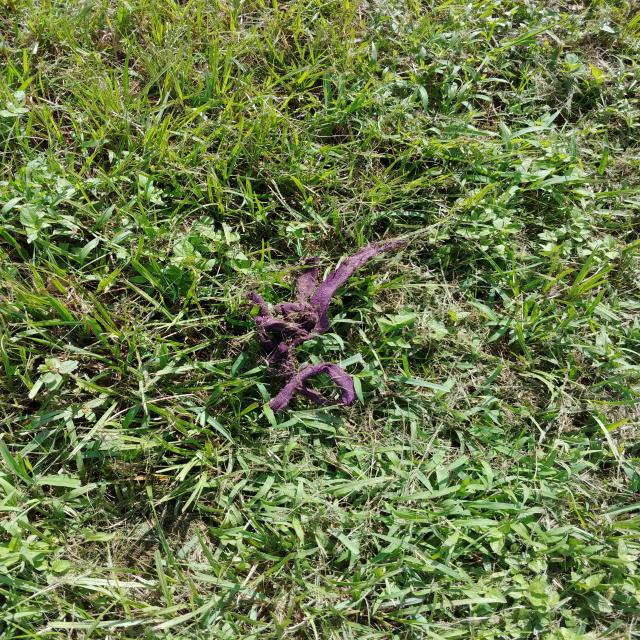litter: (248, 237, 413, 416), (47, 273, 77, 294)
